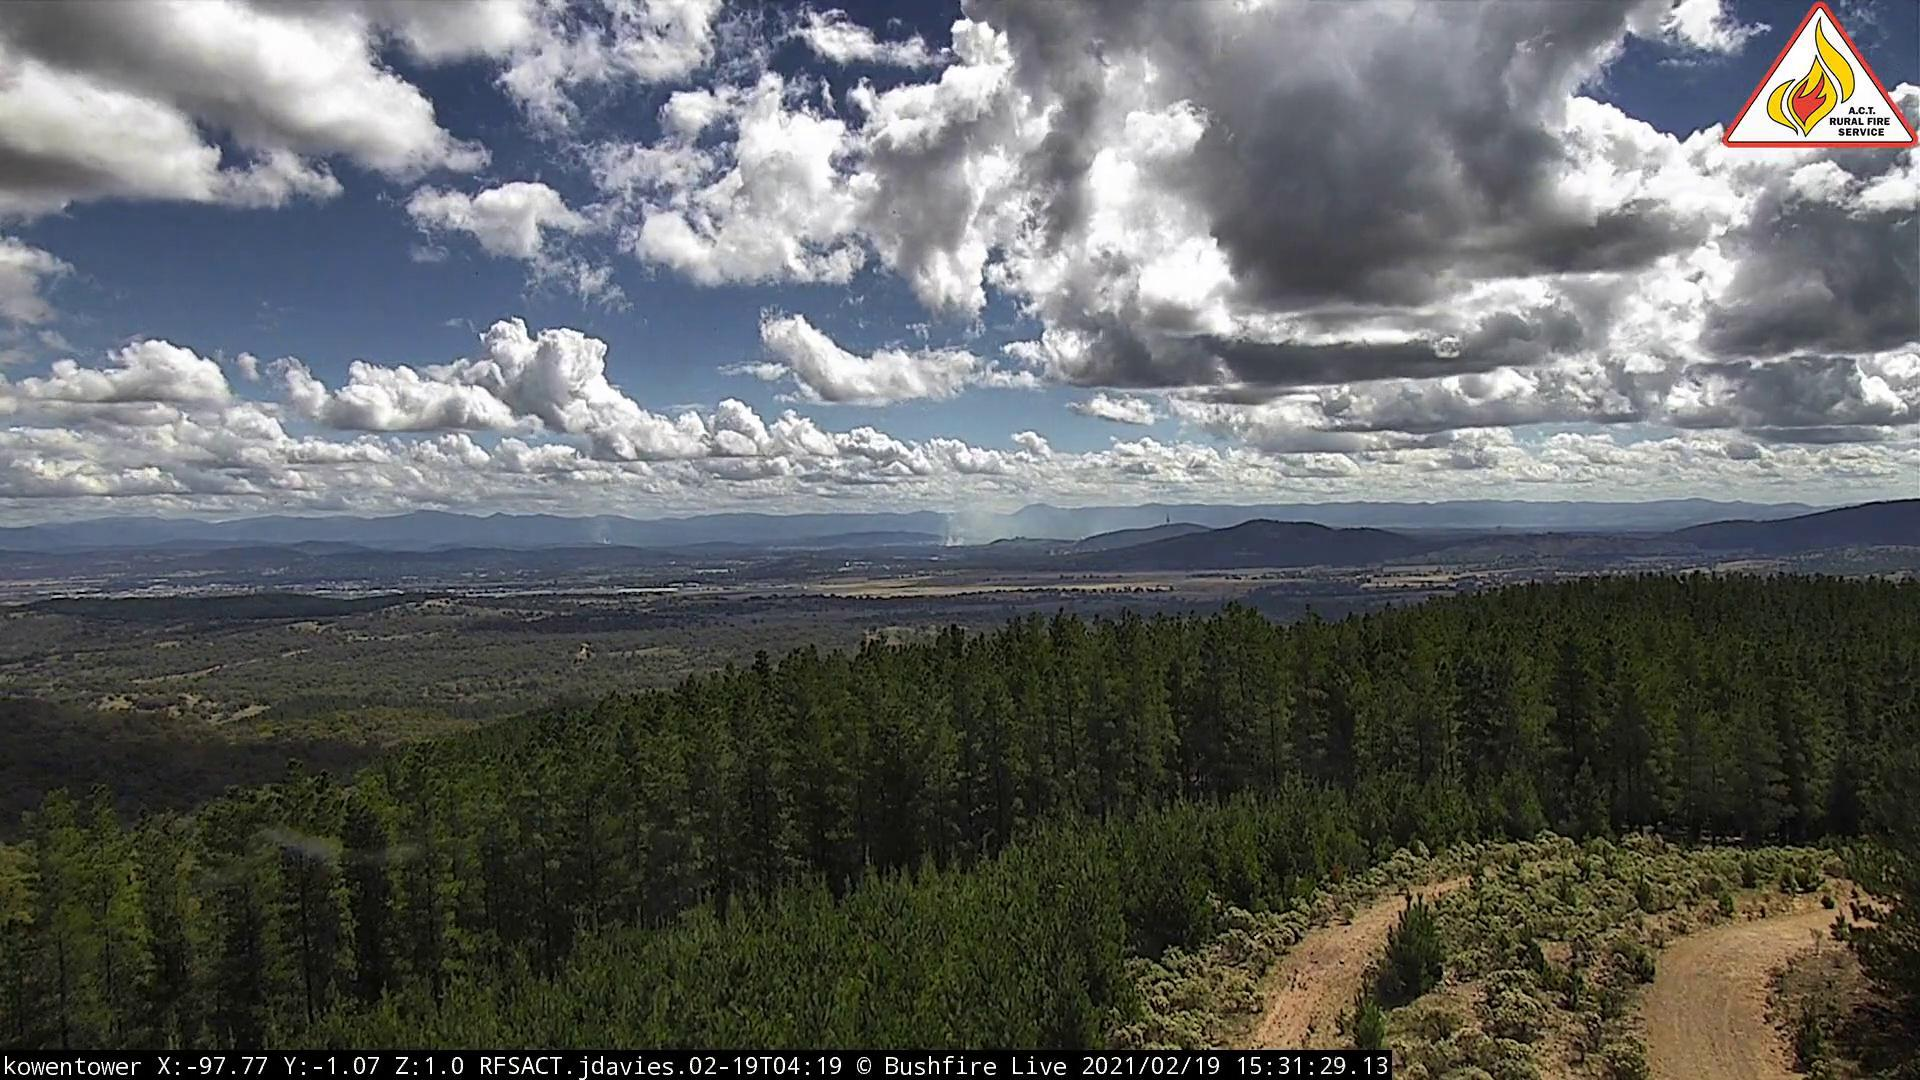instance_salient_object: (935, 500, 1064, 551), (596, 531, 620, 554)
